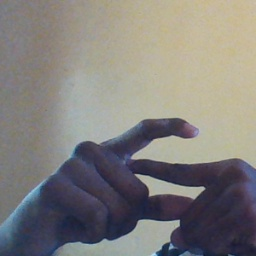E: (116, 113, 223, 234)
